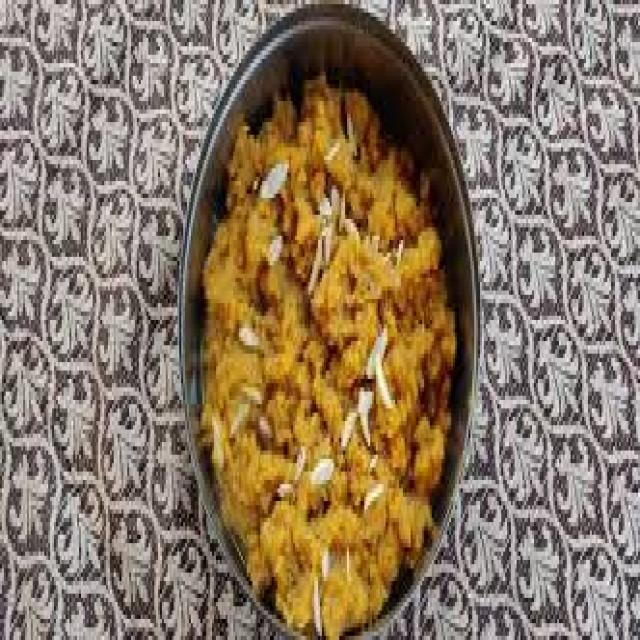POHA: (197, 76, 465, 636)
